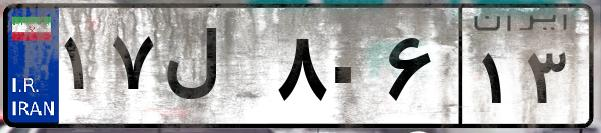0: (330, 28, 385, 110)
1: (57, 26, 110, 100), (475, 38, 525, 113)
3: (525, 38, 570, 115)
6: (385, 28, 445, 110)
7: (110, 28, 158, 98)
8: (270, 28, 330, 110)
ل: (158, 20, 270, 120)
